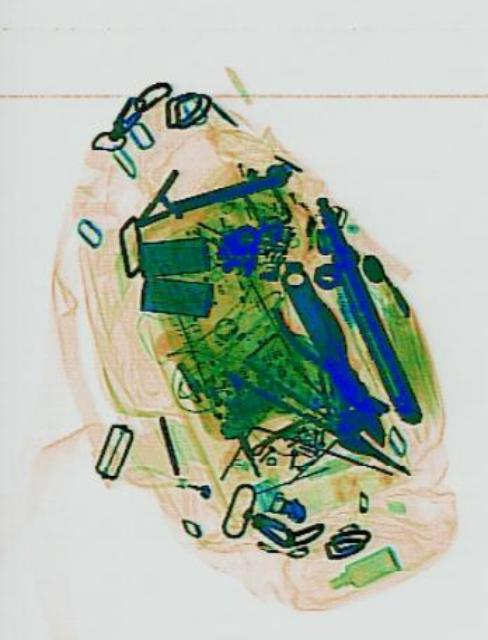Knife: (225, 353, 413, 483)
Pliers: (263, 270, 402, 462)
Wrench: (261, 248, 396, 458)
